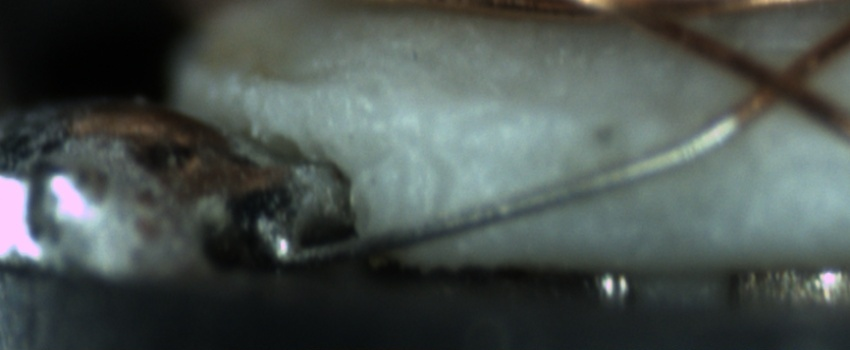CL: (716, 38, 833, 131)
DL: (435, 79, 680, 145)
TS: (278, 111, 742, 272)
